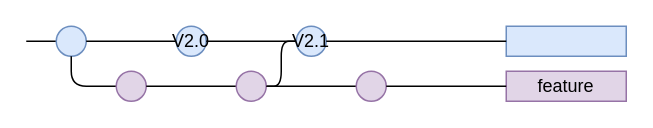
Some shapes in this 653 by 128 pixel diagram are drawn without their labels. The shapes that lost their labels are listed below. From the top down, each one's box as (x1, y1, x2, y2) in pixels, then its label:
(55, 25, 86, 56): V1.0
(505, 25, 626, 56): master
